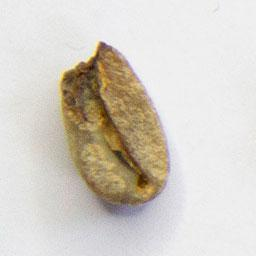defect: (57, 38, 174, 209)
